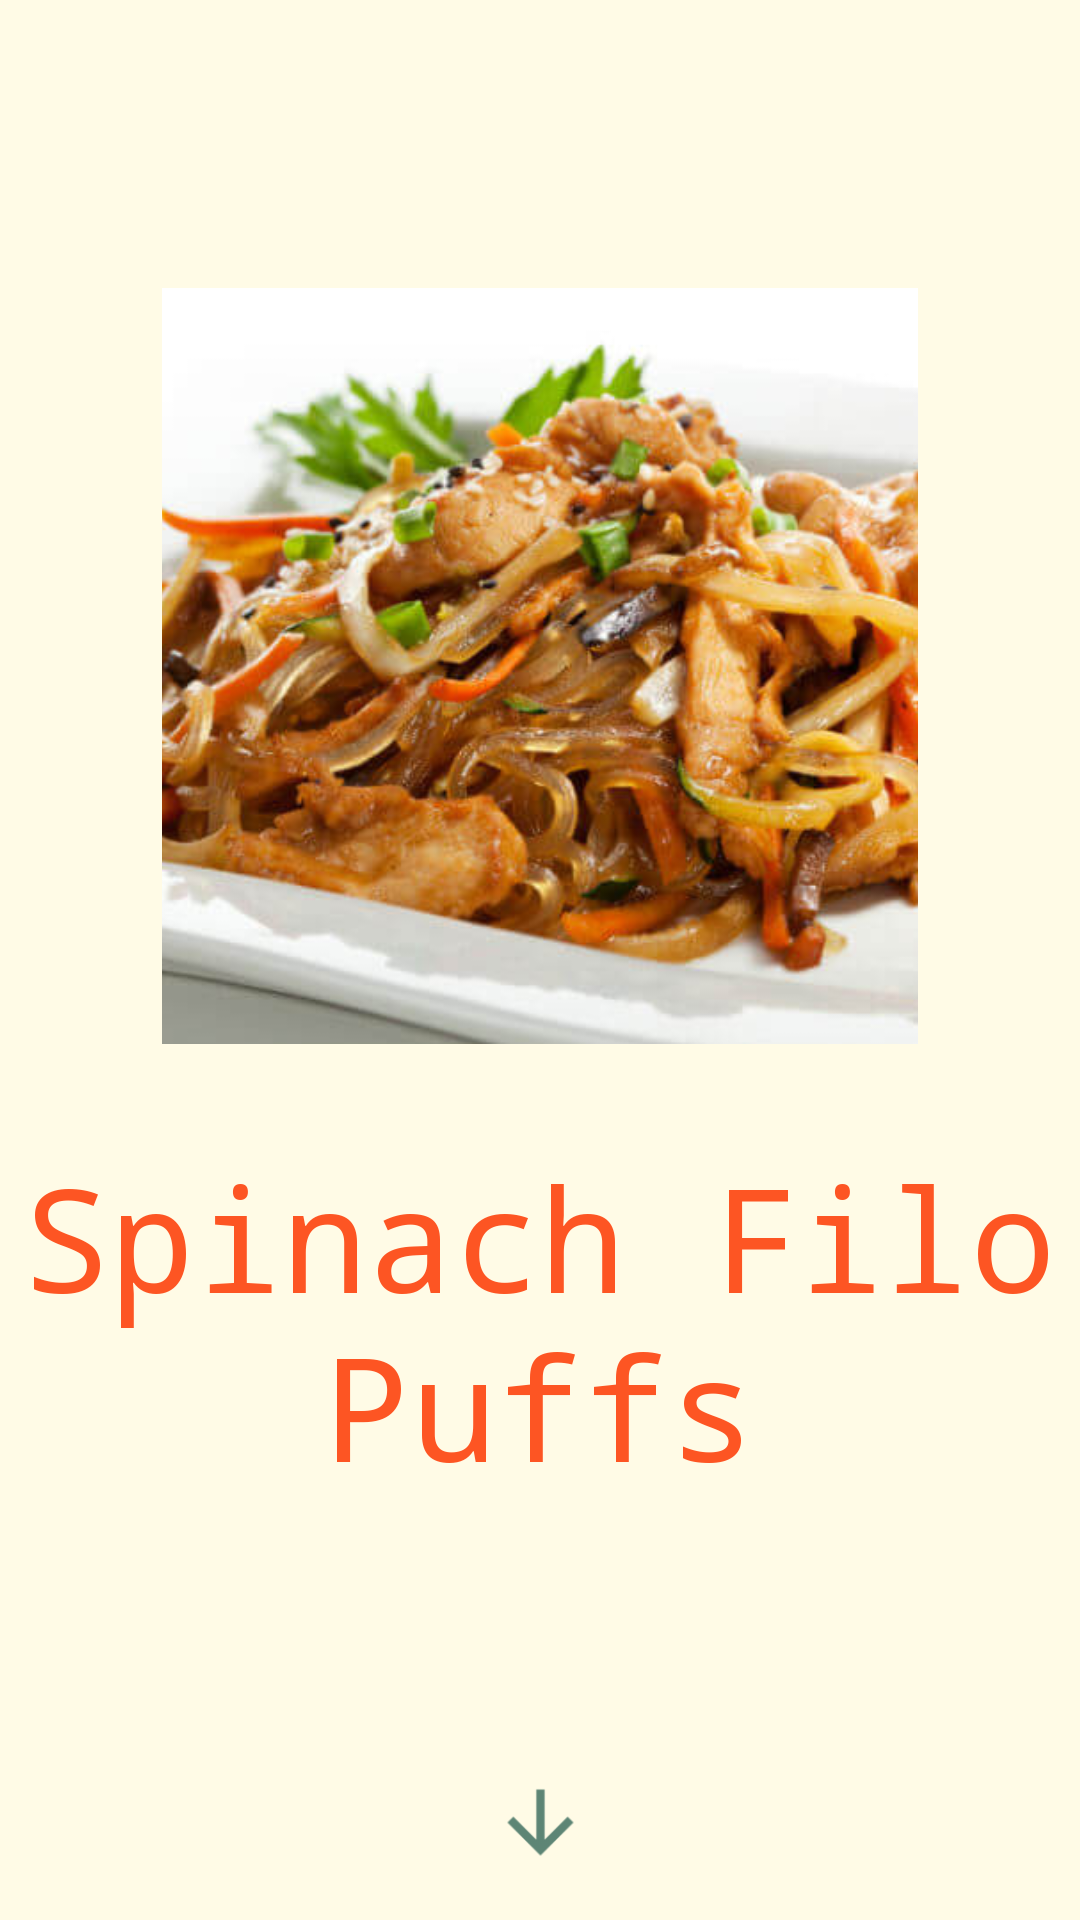

Icons on this 1080x1920 Android screen, each with the point to tap as [x,y]:
arrow down: [540,1822]
